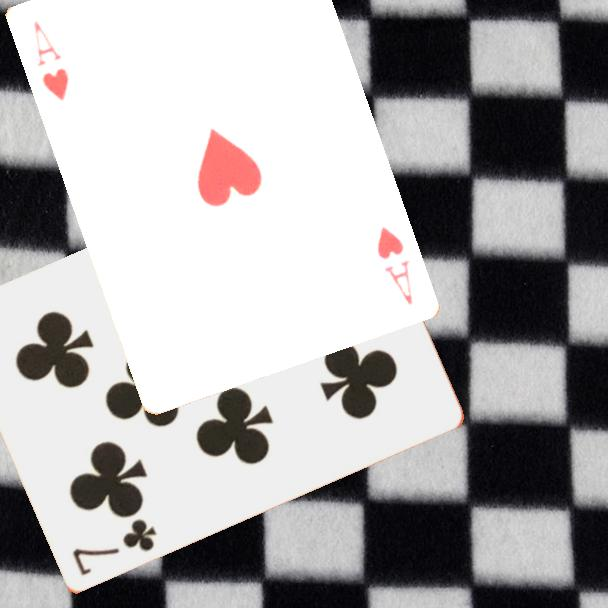c07: (68, 515, 160, 579)
h01: (29, 17, 72, 103), (373, 222, 415, 308)
